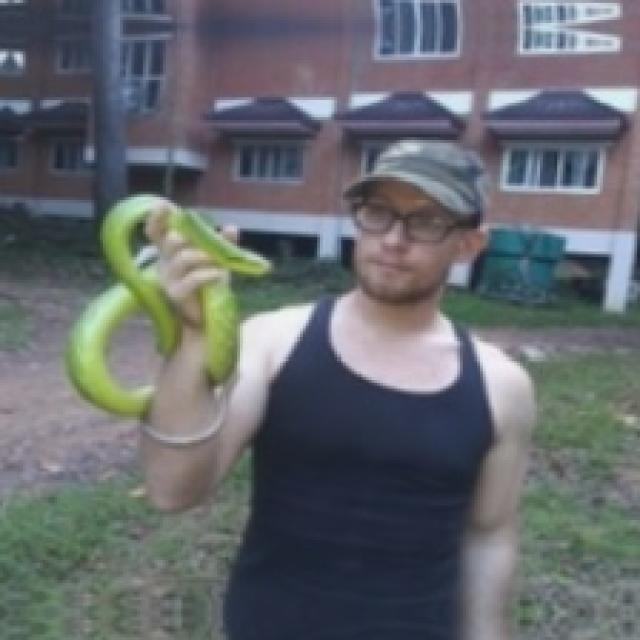red-tailed green ratsnake: (66, 194, 177, 414), (160, 203, 269, 383), (141, 412, 224, 447)
